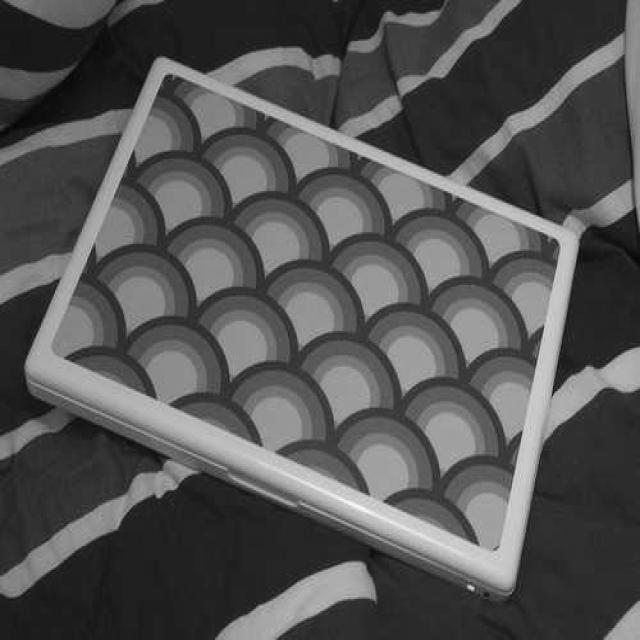laptop: (64, 70, 559, 576)
